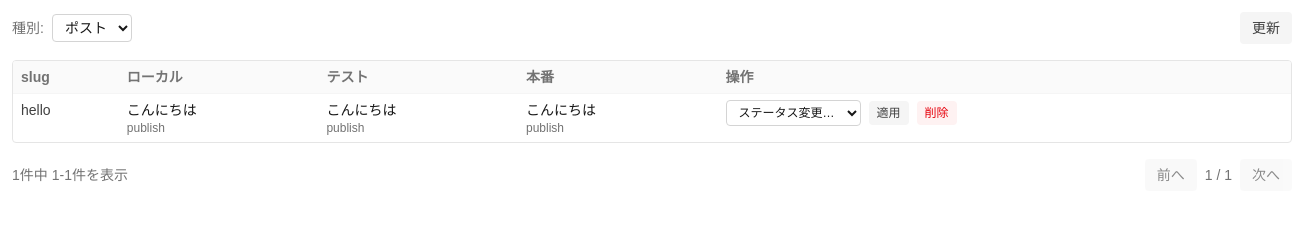
Test case: PostComparisonTable › ステータス未選択で適用するとエラーを表示し、選択後は確認して変更する
Click the button "適用": (889, 113) [869,101,909,125]
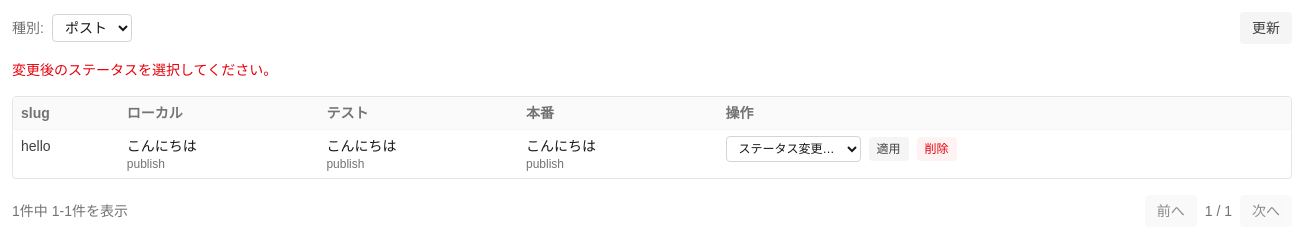
Check: the text "変更後のステータスを選択してください。" is shown, box [12,62,277,78]
Select "下書き" in the dropdown in the row of "hello": (793, 149) [726,136,861,162]
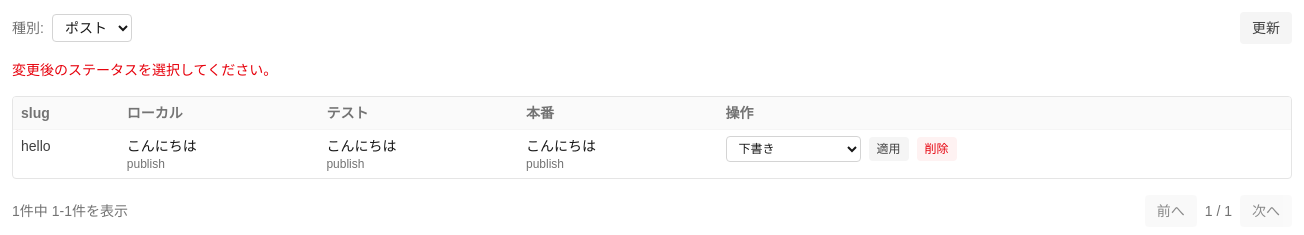
Click the button "適用": (889, 149) [869,137,909,161]
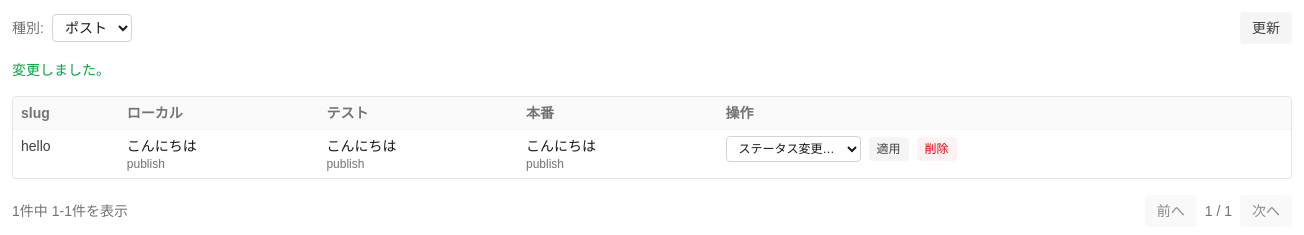
Check: the text "変更しました。" is shown, box [12,62,110,78]
